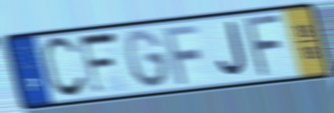C: (40, 35, 90, 102)
F: (76, 29, 121, 98), (243, 12, 285, 80), (161, 22, 202, 86)
G: (123, 28, 172, 91)
J: (215, 19, 249, 79)
